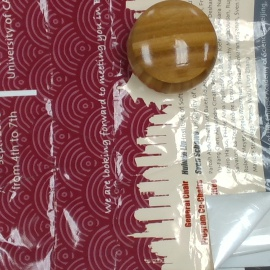chess: (129, 2, 217, 93)
